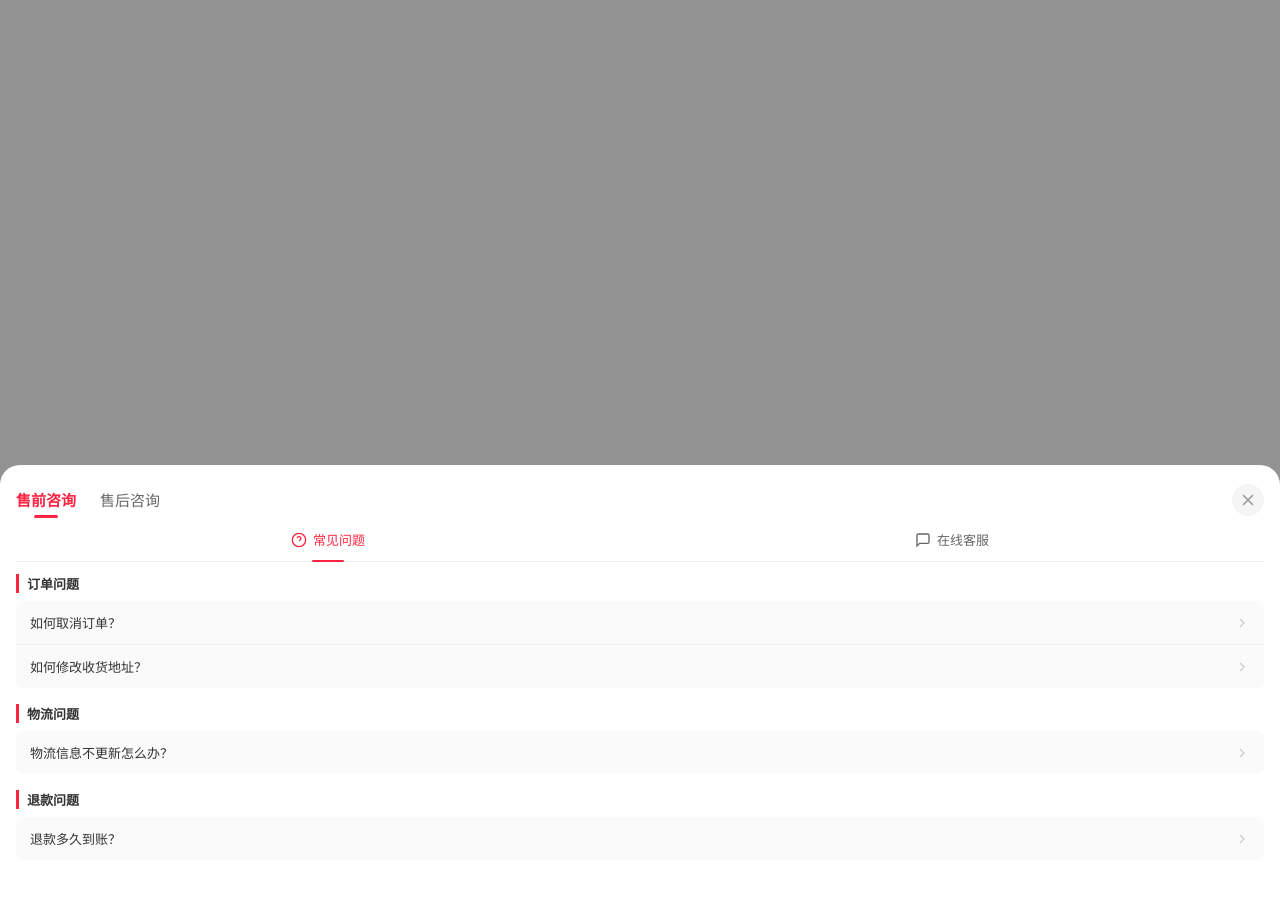
CsServicePanel 联系客服入口 › 聊天模式 › 应正确渲染快捷操作按钮(售前)
Click the element with class "cs-tabs-bar__item" showing "在线客服" at (952, 540), box [915,532,989,548]
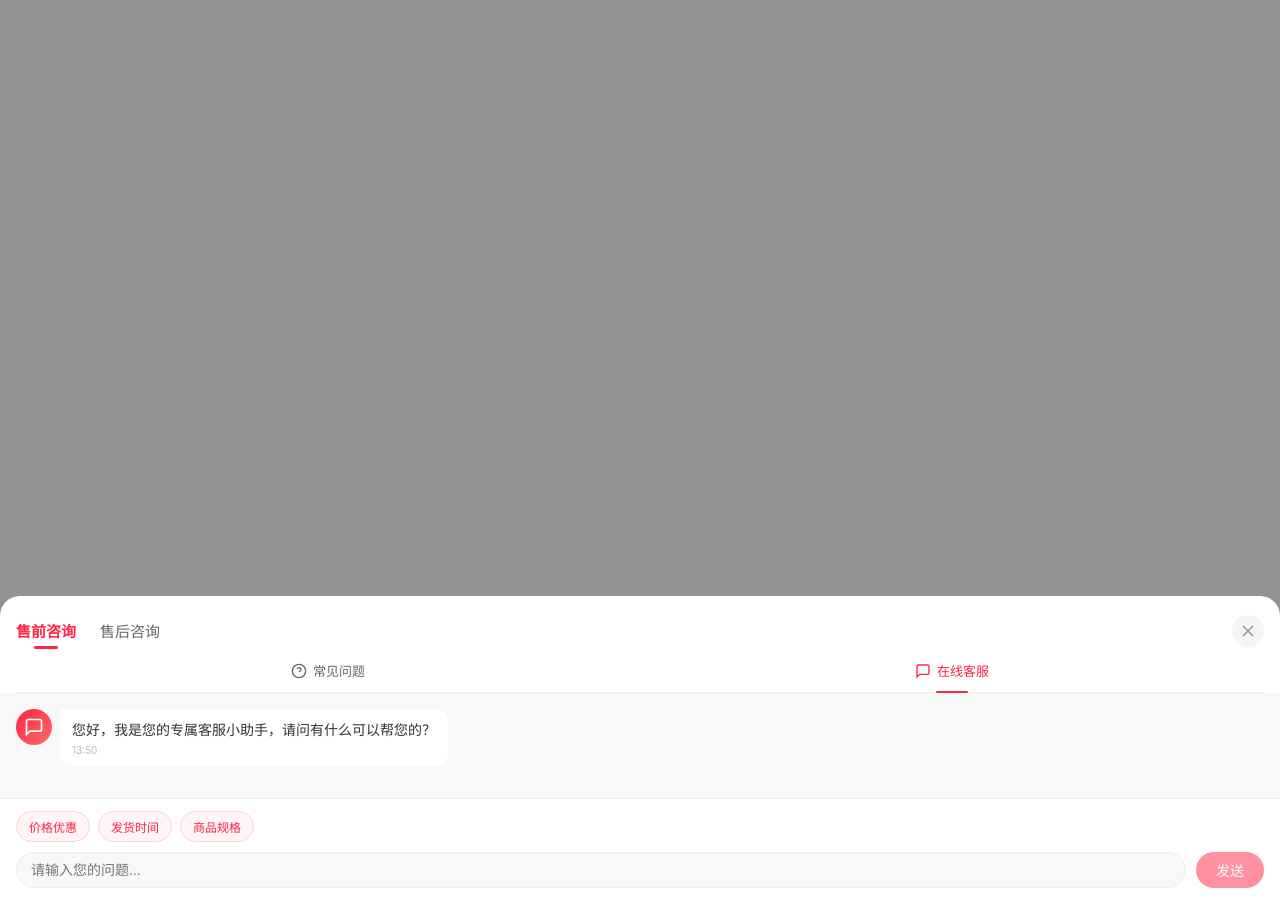
expect the button "价格优惠" is shown: met, box [16,811,90,842]
expect the button "发货时间" is shown: met, box [98,811,172,842]
expect the button "商品规格" is shown: met, box [180,811,254,842]
